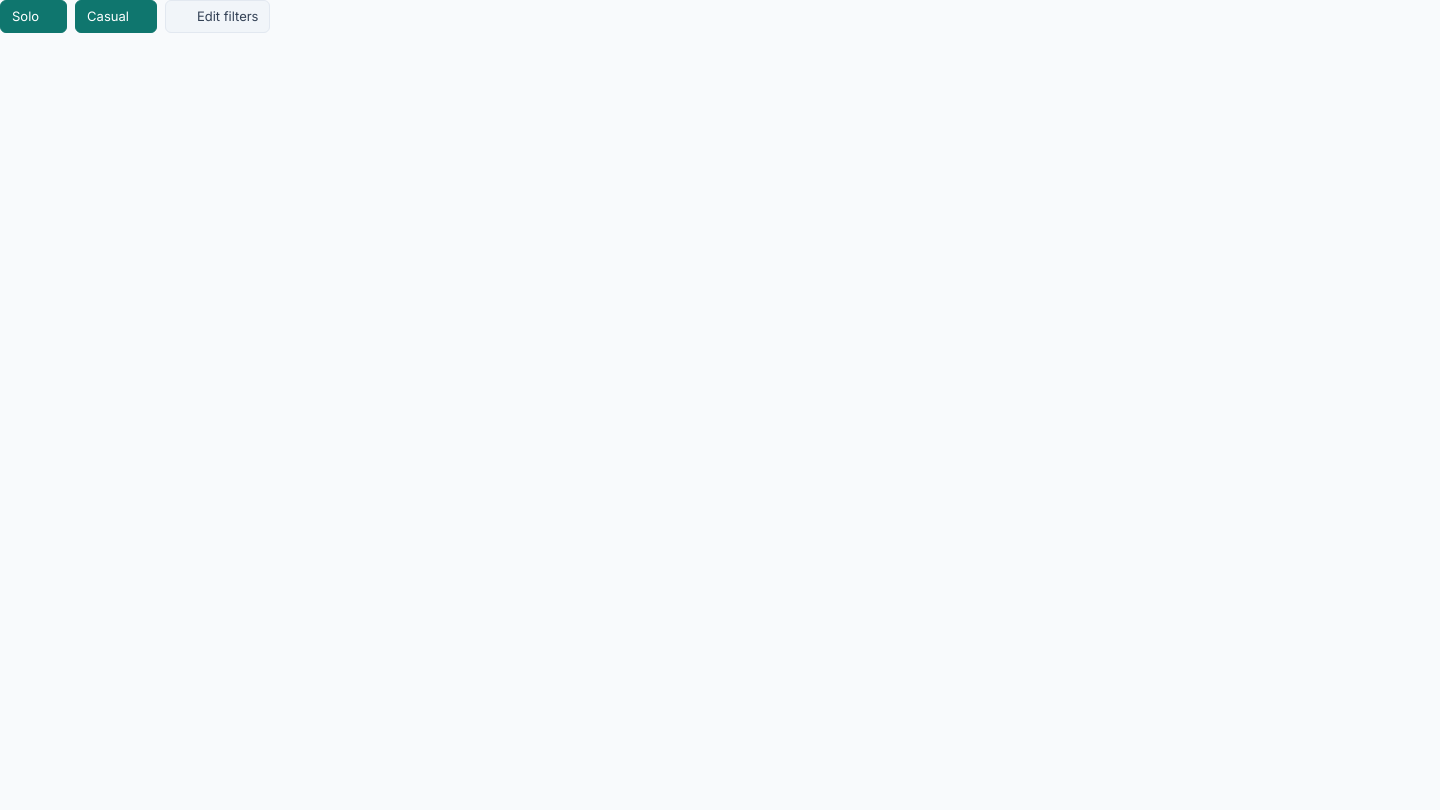
Test: FiltersScreen — Phase 6 §4: one combined edit surface for intake + filter answers › clicking an applied "who" chip on results reaches the same combined screen as "Edit filters" — not a second, disconnected path
This screenshot has width=1440, height=810.
What coordinates should you click on to do the following:
click the button "Solo"
I would click on:
 (34, 16)
Its box is [0,0,67,33].
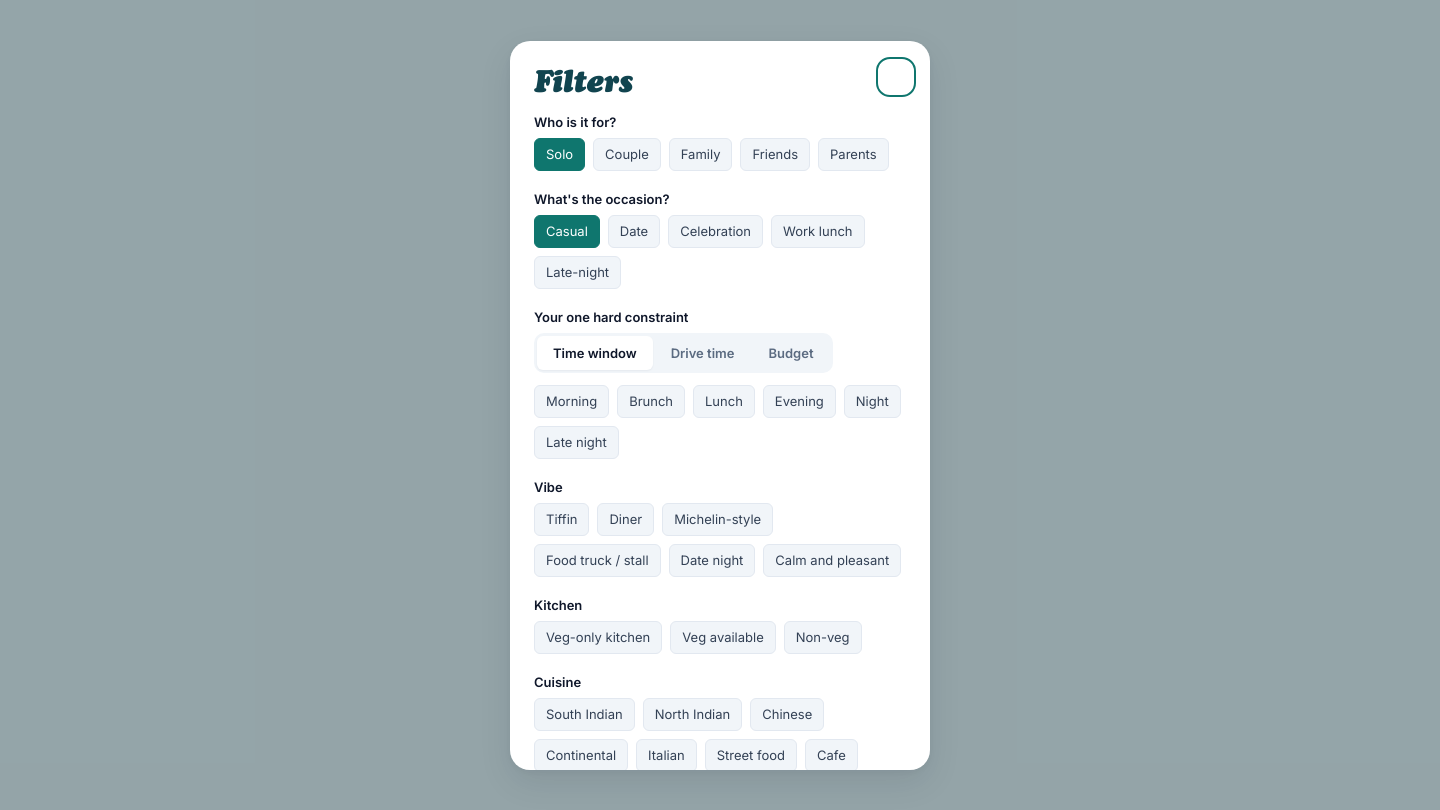
Expected: the heading "Who is it for?" is shown, [534,114,616,130]
Expected: the heading "Vibe" is shown, [534,479,563,495]
